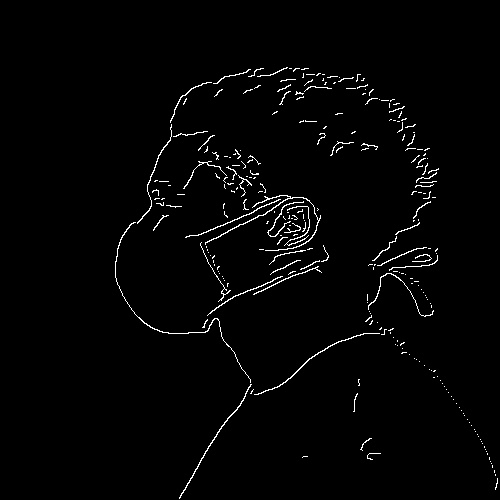mask: (107, 207, 325, 337)
